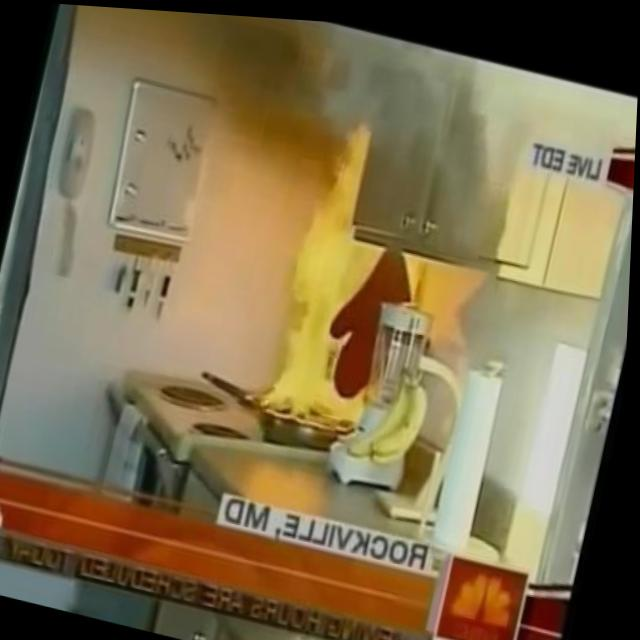fire: (253, 107, 437, 437)
